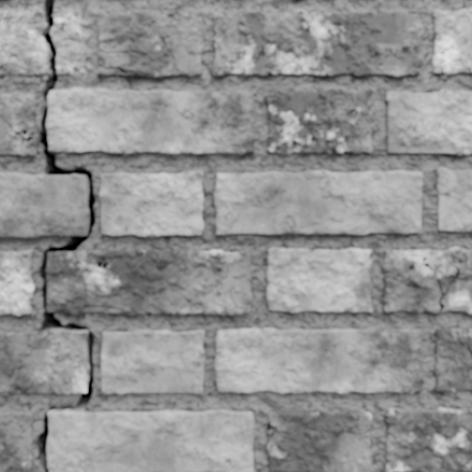brick: (211, 9, 421, 76), (46, 88, 253, 154), (46, 248, 251, 314), (214, 328, 422, 392), (214, 171, 420, 233), (47, 410, 252, 471), (265, 88, 372, 153), (96, 12, 202, 77), (266, 247, 371, 311), (99, 172, 202, 236), (101, 330, 203, 393), (266, 410, 370, 471), (381, 246, 471, 312), (0, 173, 88, 237), (0, 329, 86, 394), (386, 89, 471, 154), (385, 408, 471, 471), (432, 8, 471, 73), (434, 328, 471, 392), (435, 168, 471, 230), (0, 251, 33, 314), (0, 411, 32, 471), (0, 116, 38, 156), (0, 92, 36, 130), (97, 67, 140, 77)
broken_brick: (0, 9, 46, 75), (51, 9, 85, 74)
crack: (0, 0, 95, 471), (421, 256, 462, 313), (97, 47, 154, 61), (98, 63, 146, 78), (82, 303, 133, 315), (266, 417, 277, 436), (464, 340, 471, 356), (245, 104, 254, 115), (414, 343, 423, 353), (268, 469, 285, 471), (367, 252, 372, 258), (73, 67, 78, 71)
